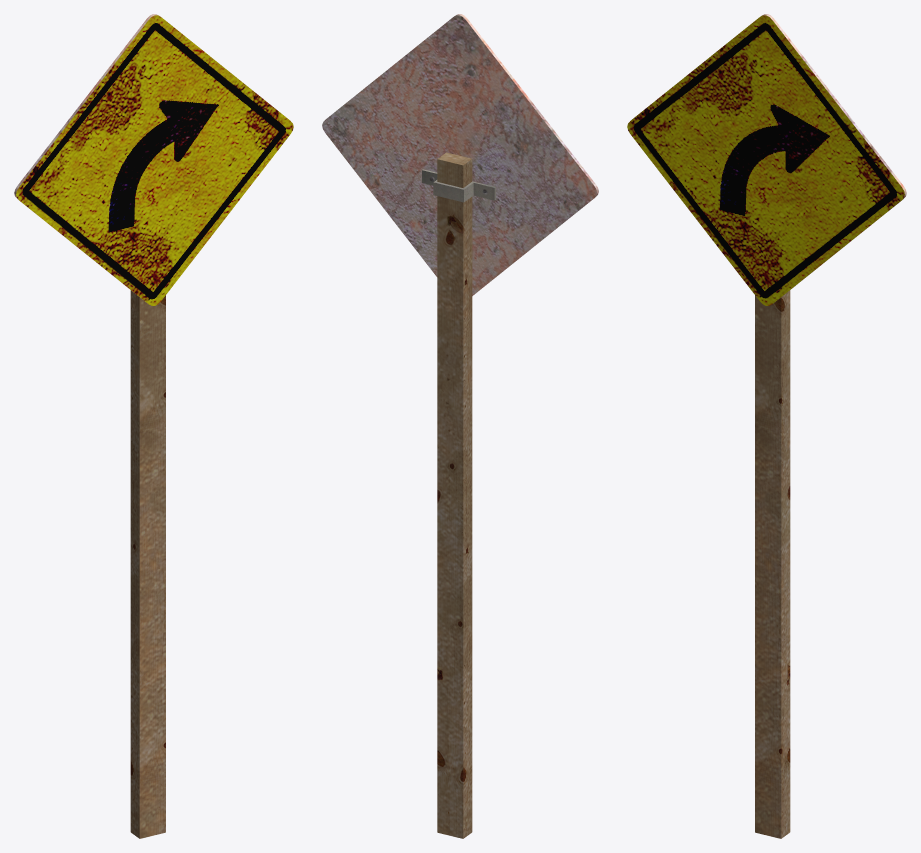
The model's file is Right_turn_arrow_sign.FBX.
3 views of the same model, side by side, from view 1: azimuth 30°, elevation 25°; view 2: azimuth 150°, elevation 25°; view 3: azimuth 330°, elevation 25° (orthographic).
Parts seen in each view (by area): view 1: Right_turn_arrow_sign; view 2: Right_turn_arrow_sign; view 3: Right_turn_arrow_sign.
Boxes of the visible parts, x1,y1,x2,y2 form: Right_turn_arrow_sign: (14, 14, 293, 838); Right_turn_arrow_sign: (322, 14, 598, 838); Right_turn_arrow_sign: (627, 14, 906, 838).
Size of the model in its own units: 104 by 293 by 8.22.
